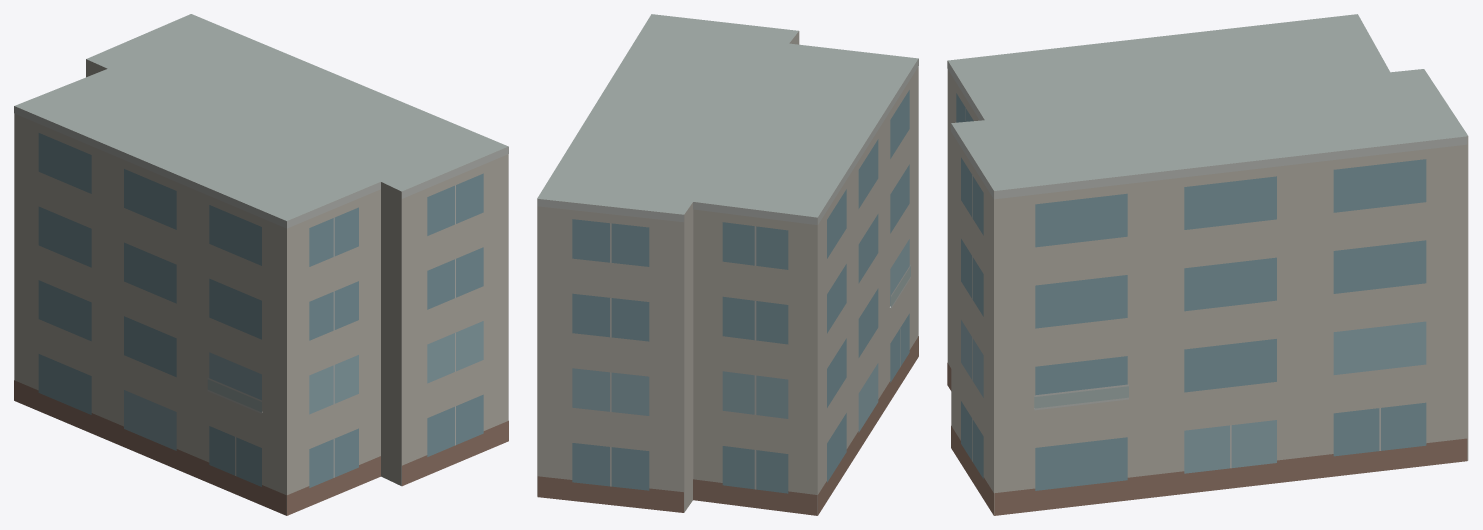
File: survey-upis-32622152.glb
3 renders of one model, left to right at view 1: azimuth 30°, elevation 25°; view 2: azimuth 150°, elevation 25°; view 3: azimuth 270°, elevation 25°, orthographic. The views are drawn at different scales.
Parts seen in each view (by area): view 1: survey-upis-32622152.tmp; view 2: survey-upis-32622152.tmp; view 3: survey-upis-32622152.tmp.
Boxes of the visible parts, <box> form: survey-upis-32622152.tmp: <box>14,14,508,515</box>; survey-upis-32622152.tmp: <box>537,14,918,515</box>; survey-upis-32622152.tmp: <box>947,14,1468,515</box>.
Bounding box in the file's own units: 11.21 × 9.58 × 13.93.
